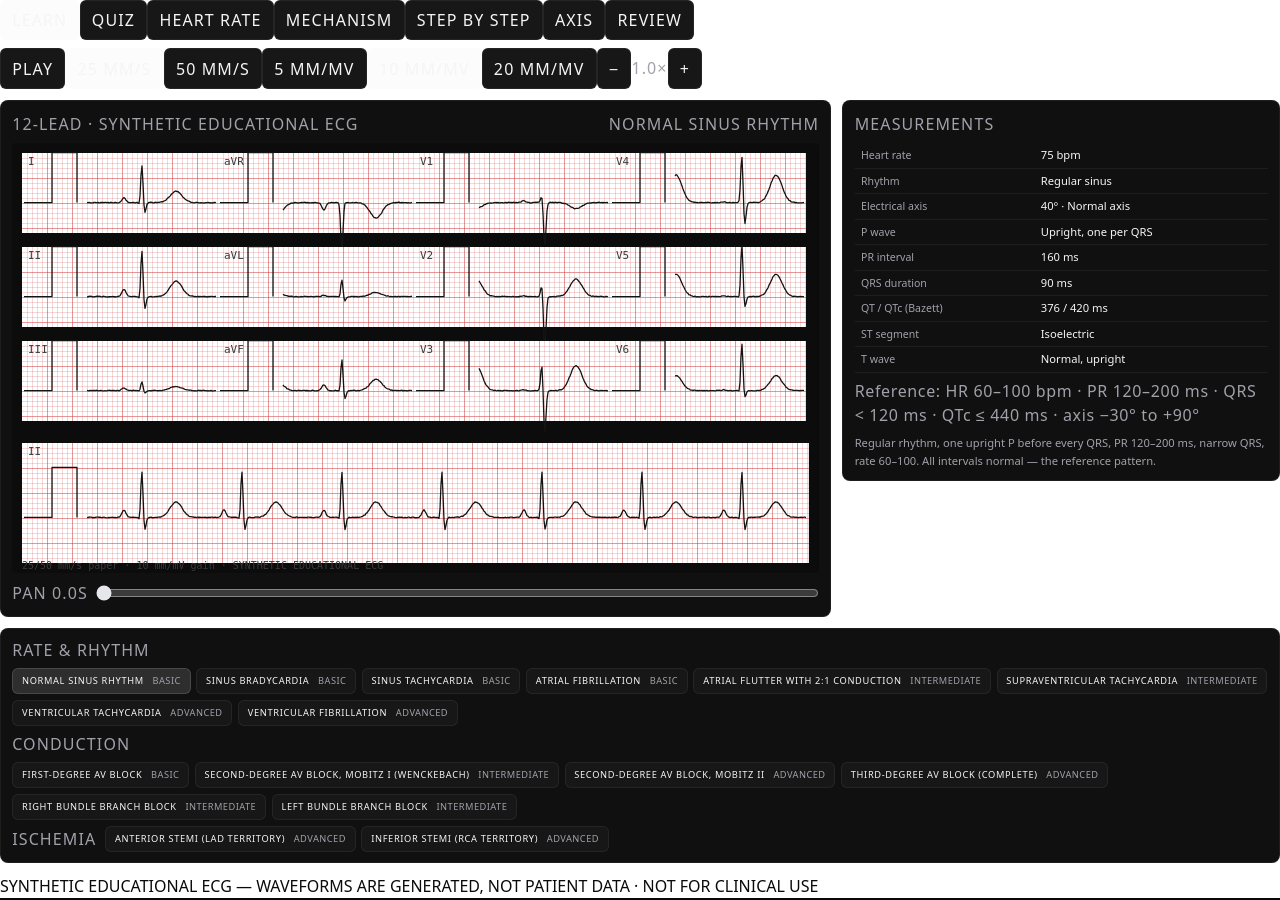
Test: ECG Lab interface › shows the mistake review tab
Click the button "REVIEW": click(650, 20) left=605, top=0, right=694, bottom=40
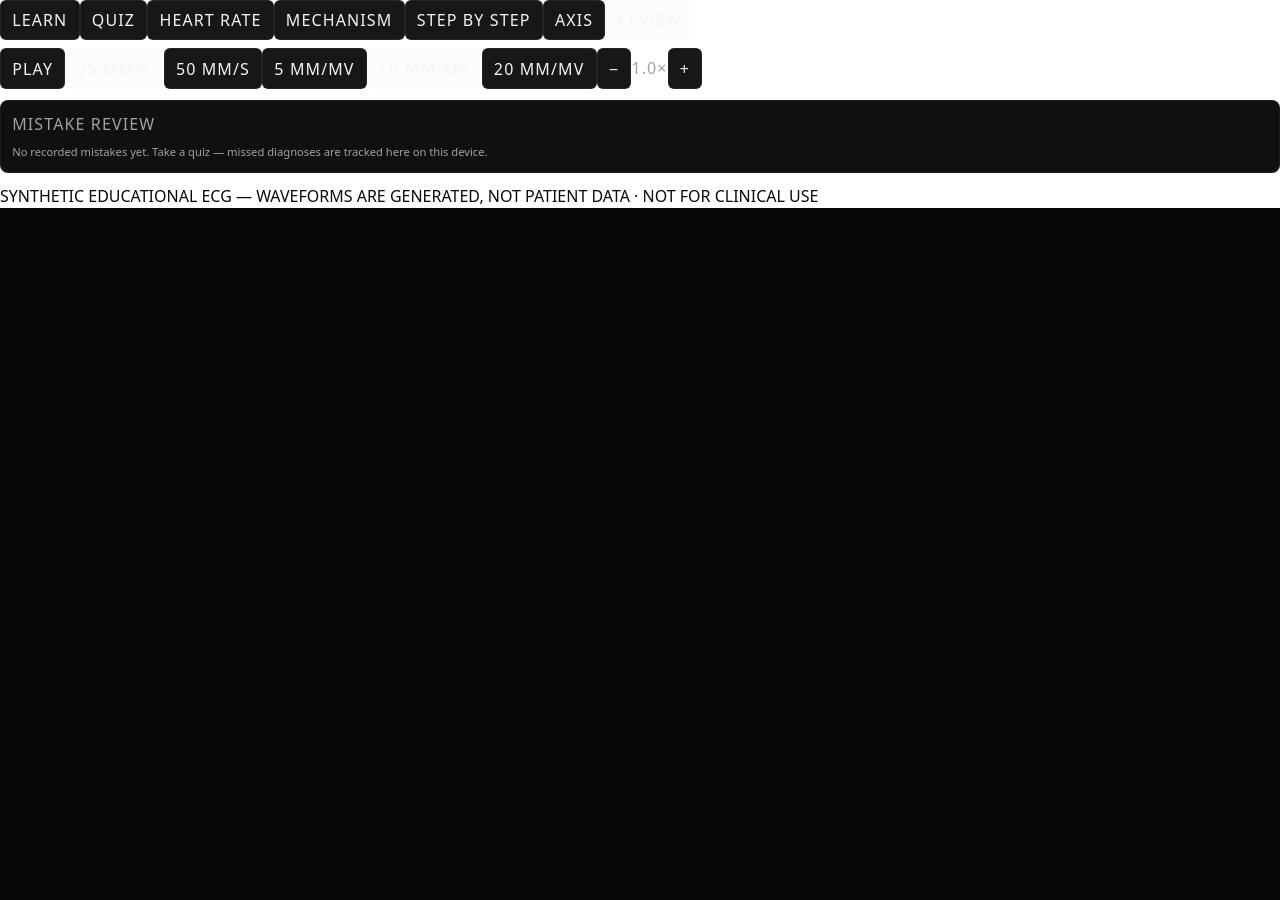
Result: the text "No recorded mistakes yet" is shown at left=12, top=144, right=488, bottom=159
